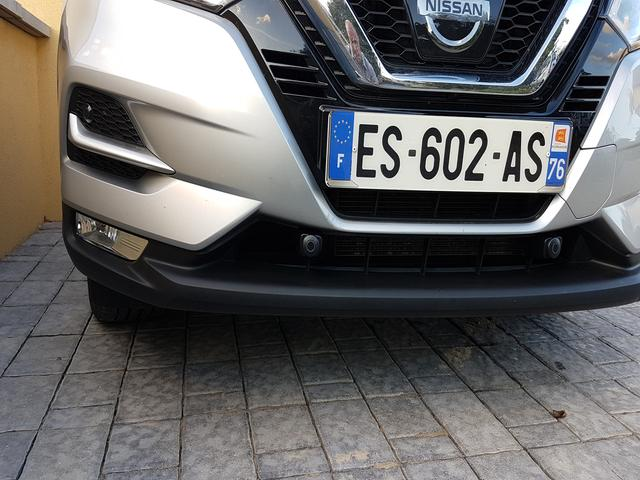Quashqai: (302, 67, 589, 207)
